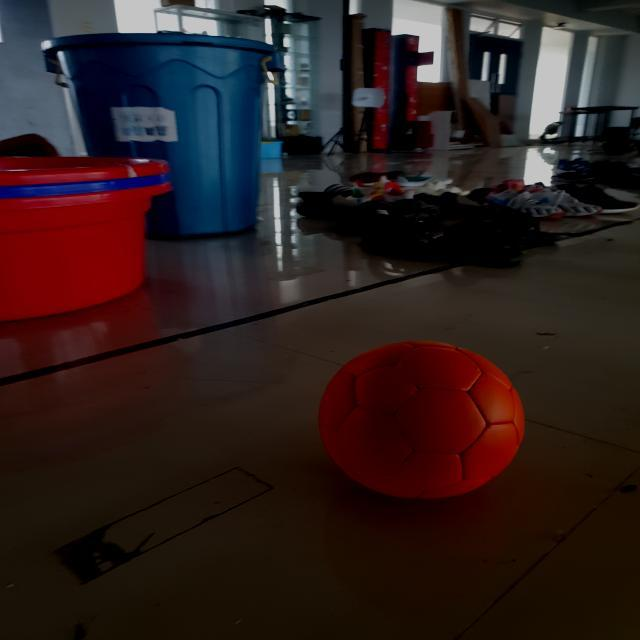bola: (306, 329, 533, 511)
